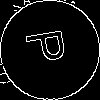P: (25, 25, 76, 67)
